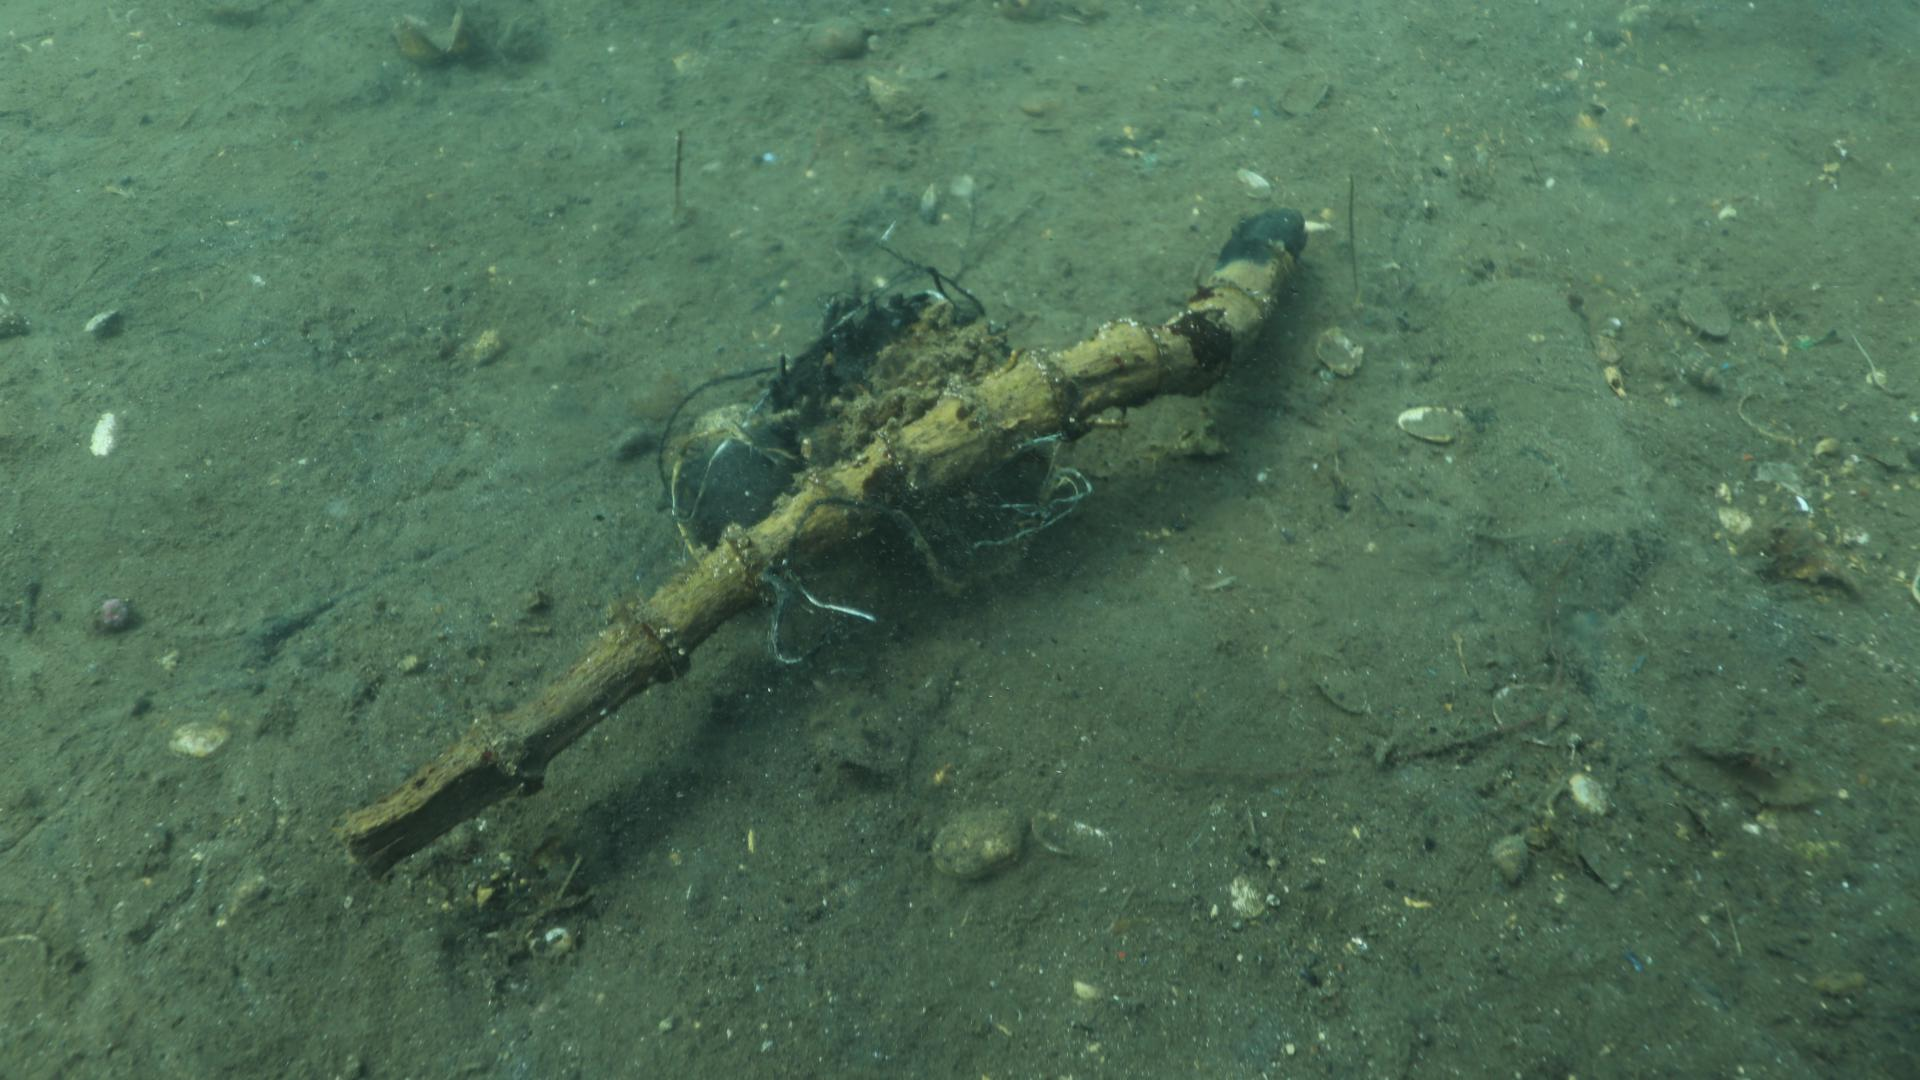wood: (336, 204, 1331, 884)
